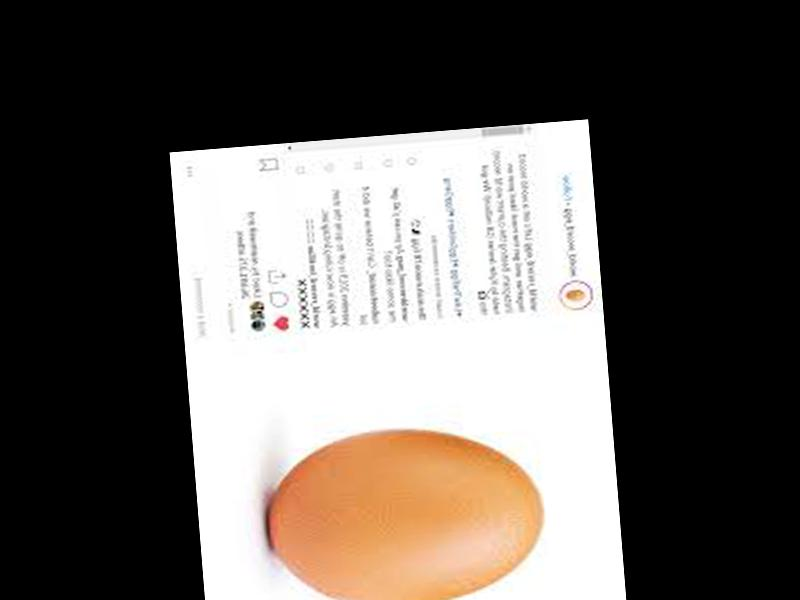Eggs: (264, 419, 548, 600)
